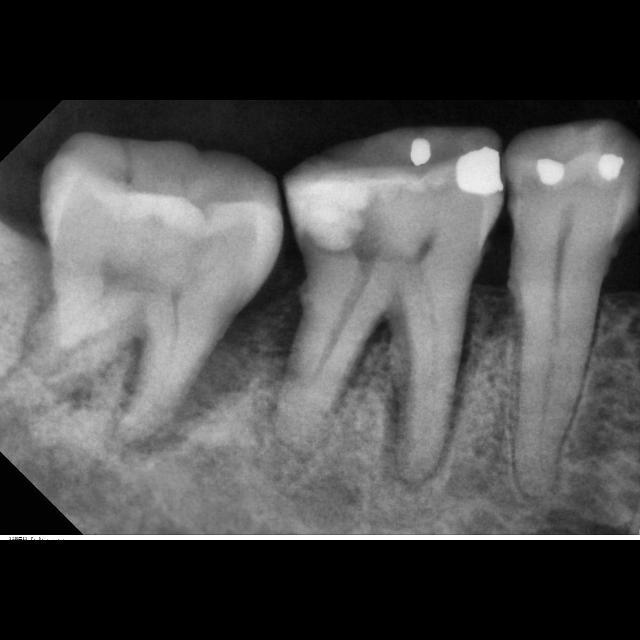tooth: (506, 121, 639, 499)
